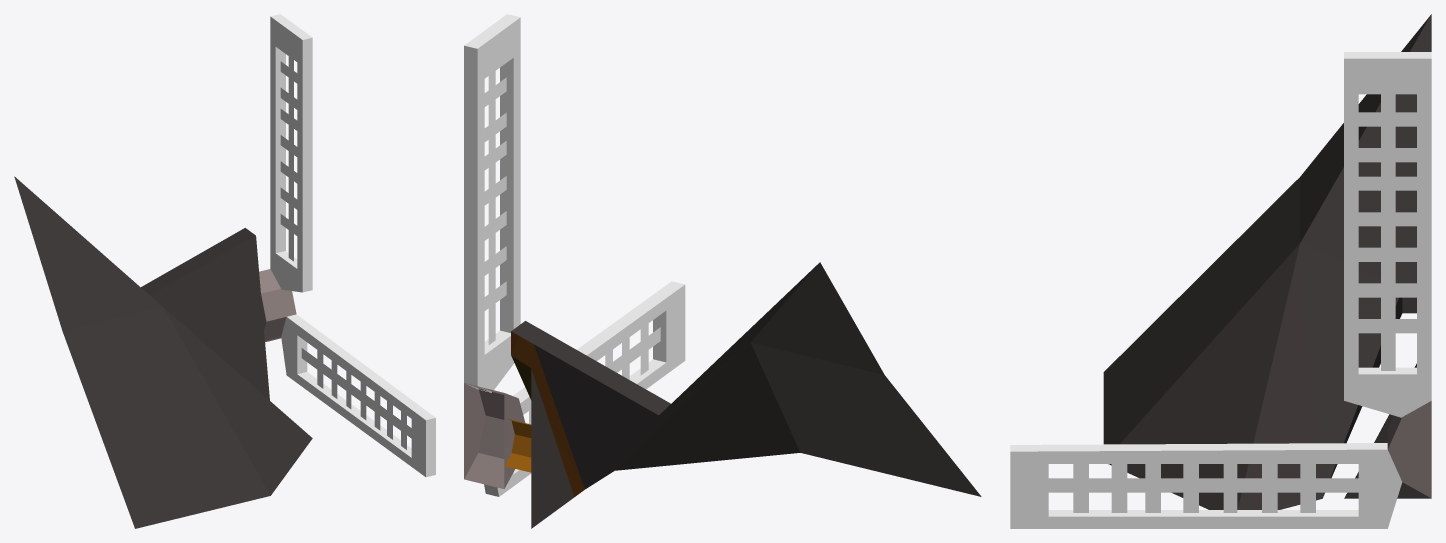
Rendered from obj_mroof3_0.obj.
The picture shows the model from 3 angles, left to right: view 1: azimuth 30°, elevation 25°; view 2: azimuth 150°, elevation 25°; view 3: azimuth 270°, elevation 25°; orthographic projection. The views are drawn at different scales.
Bounding box in the file's own units: 2.9 × 3.76 × 2.93.
